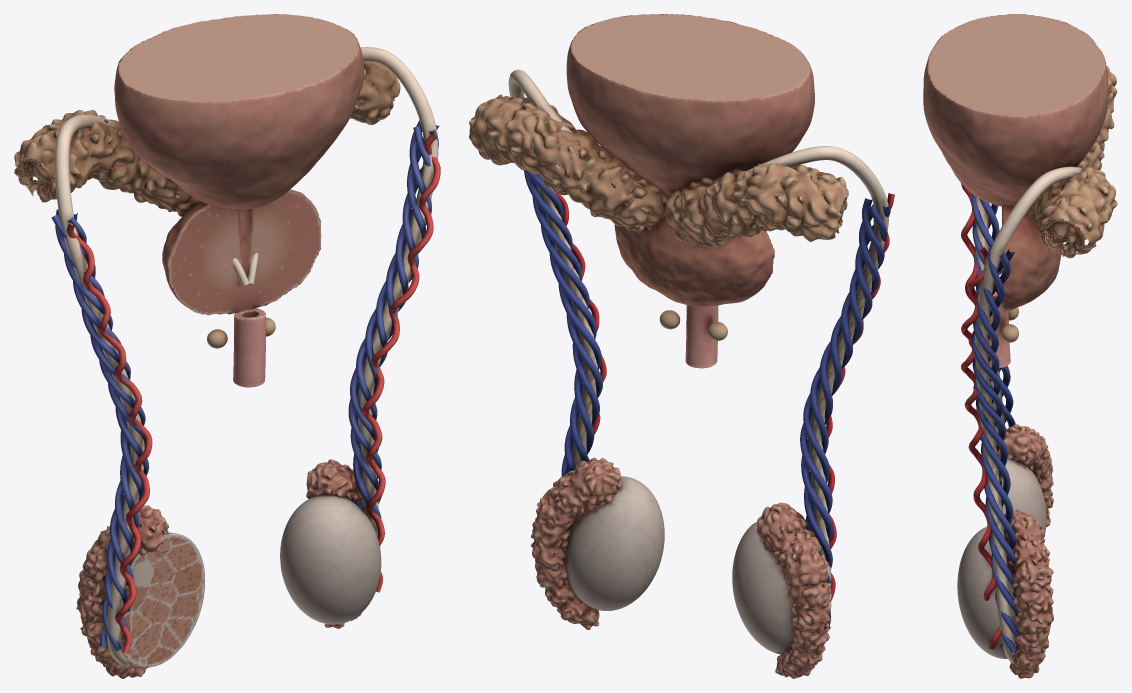
The model's file is male-reproductive.6bfa088b.glb.
The picture shows the model from 3 angles, left to right: view 1: azimuth 30°, elevation 25°; view 2: azimuth 150°, elevation 25°; view 3: azimuth 270°, elevation 25°; orthographic projection. The views are drawn at different scales.
Parts seen in each view (by area): view 1: Urinary bladder (base), Testes, Prostate, Pampiniform plexus, Seminal vesicles, Ductus deferens, Testicular arteries, Epididymides, Urethra; view 2: Urinary bladder (base), Seminal vesicles, Testes, Epididymides, Pampiniform plexus, Prostate, Ductus deferens, Urethra, Testicular arteries, Bulbourethral glands; view 3: Urinary bladder (base), Pampiniform plexus, Epididymides, Seminal vesicles, Testes, Ductus deferens, Prostate, Testicular arteries, Urethra, Bulbourethral glands.
Boxes of the visible parts, bbox=[...] form: Urinary bladder (base): bbox=[114, 14, 363, 208]; Testes: bbox=[119, 495, 381, 667]; Prostate: bbox=[162, 189, 321, 315]; Pampiniform plexus: bbox=[51, 120, 439, 650]; Seminal vesicles: bbox=[14, 61, 400, 216]; Ductus deferens: bbox=[54, 47, 438, 667]; Testicular arteries: bbox=[66, 133, 440, 653]; Epididymides: bbox=[76, 459, 364, 678]; Urethra: bbox=[233, 308, 265, 387]; Urinary bladder (base): bbox=[566, 14, 814, 197]; Seminal vesicles: bbox=[469, 94, 848, 248]; Testes: bbox=[564, 476, 793, 654]; Epididymides: bbox=[530, 457, 831, 678]; Pampiniform plexus: bbox=[524, 170, 890, 627]; Prostate: bbox=[614, 208, 774, 306]; Ductus deferens: bbox=[508, 69, 889, 627]; Urethra: bbox=[685, 305, 718, 368]; Testicular arteries: bbox=[554, 192, 894, 629]; Bulbourethral glands: bbox=[659, 310, 727, 340]; Urinary bladder (base): bbox=[923, 14, 1108, 207]; Pampiniform plexus: bbox=[971, 194, 1019, 652]; Epididymides: bbox=[997, 424, 1053, 678]; Seminal vesicles: bbox=[1028, 65, 1117, 258]; Testes: bbox=[957, 458, 1046, 658]; Ductus deferens: bbox=[974, 166, 1082, 663]; Prostate: bbox=[1002, 206, 1063, 311]; Testicular arteries: bbox=[961, 183, 1001, 649]; Urethra: bbox=[988, 293, 1010, 368]; Bulbourethral glands: bbox=[1001, 307, 1018, 342].
Bounding box in the file's own units: 2.09 × 3.09 × 0.965.
